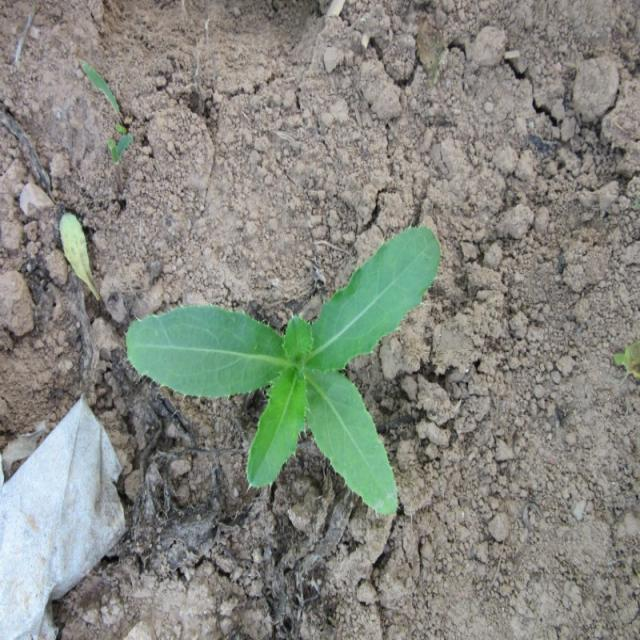cs: (125, 224, 440, 518)
